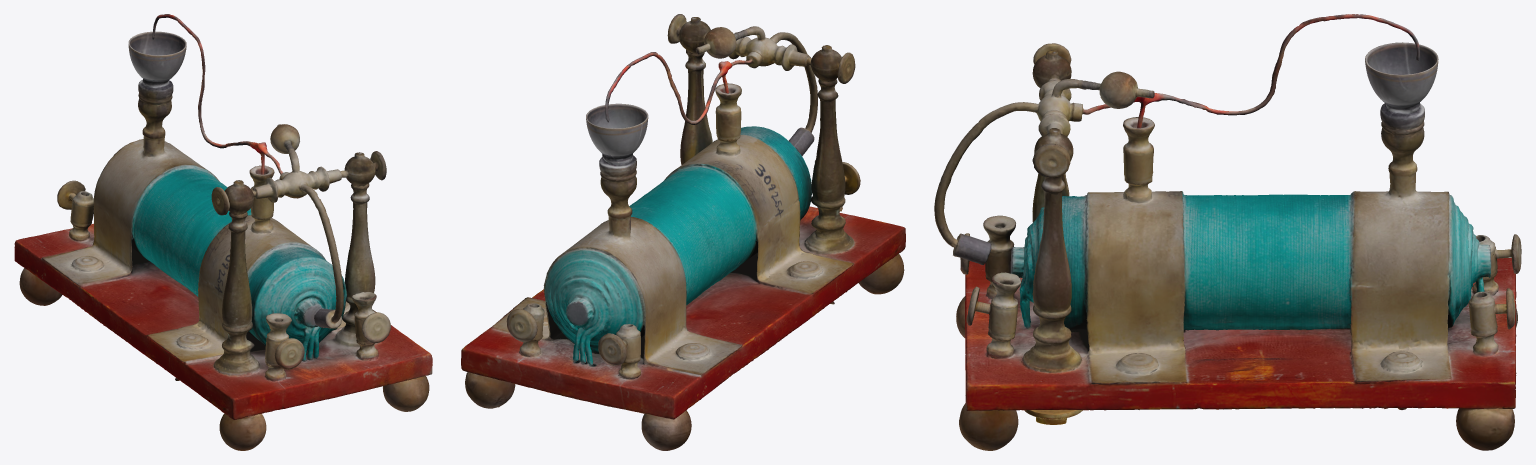
The model's file is page_induction_coil_from_us_patent_76654.glb.
3 renders of one model, left to right at view 1: azimuth 30°, elevation 25°; view 2: azimuth 150°, elevation 25°; view 3: azimuth 270°, elevation 25°, orthographic. The views are drawn at different scales.
Visible parts, largest first — view 1: Object_4, Object_5; view 2: Object_4, Object_5; view 3: Object_4, Object_5.
Part boxes in pixels (bbox=[...]): Object_4: bbox=[14, 14, 432, 450]; Object_5: bbox=[57, 122, 386, 390]; Object_4: bbox=[463, 17, 905, 450]; Object_5: bbox=[461, 14, 862, 409]; Object_4: bbox=[934, 14, 1517, 450]; Object_5: bbox=[967, 82, 1521, 431].
Size of the model in its own units: 0.1118 by 0.1574 by 0.2185.
1 material, 1 textured.
